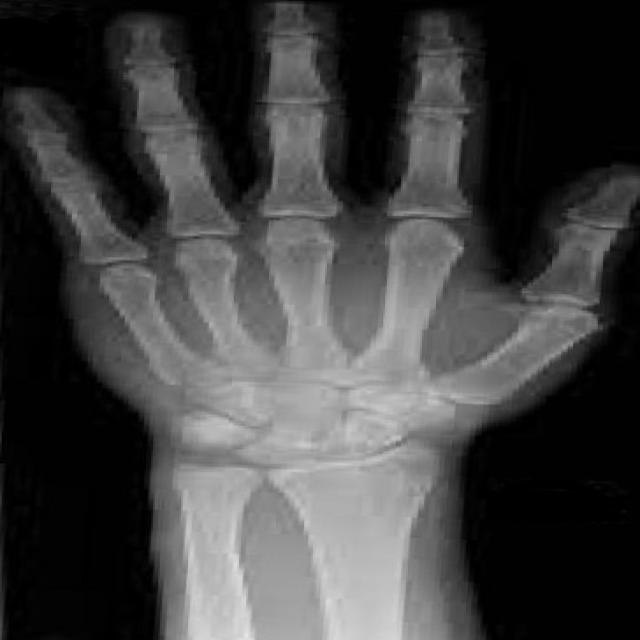Longitudinal: (101, 342, 516, 408)
